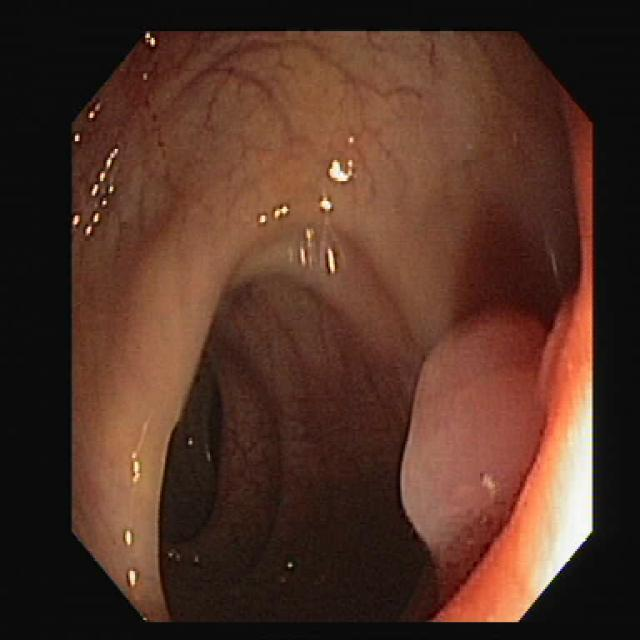tumor: (402, 311, 545, 569)
